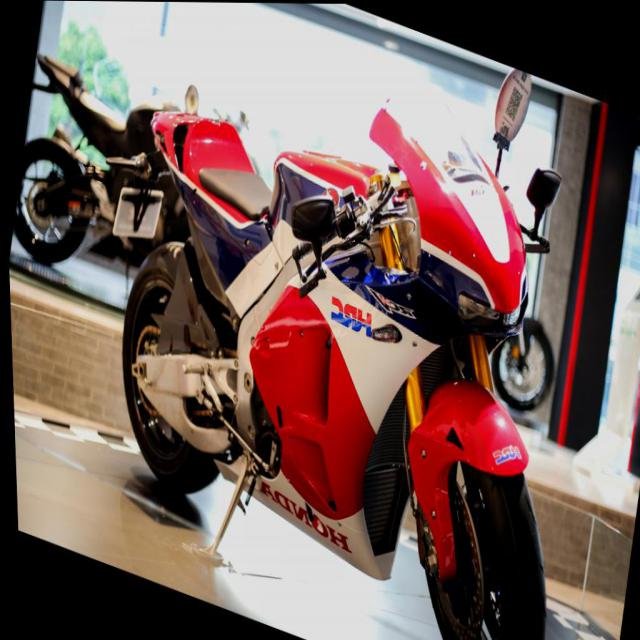HRC RCV 213: (72, 14, 617, 639)
